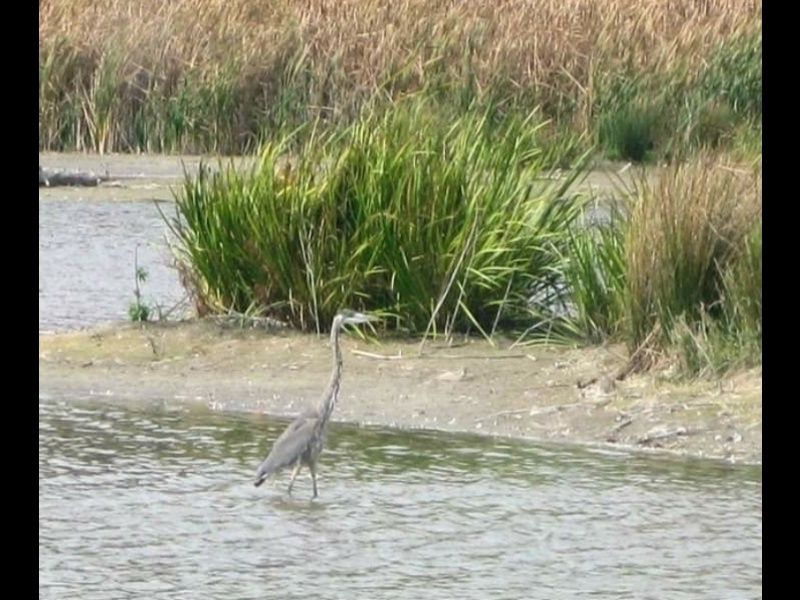heron: (253, 308, 380, 502)
